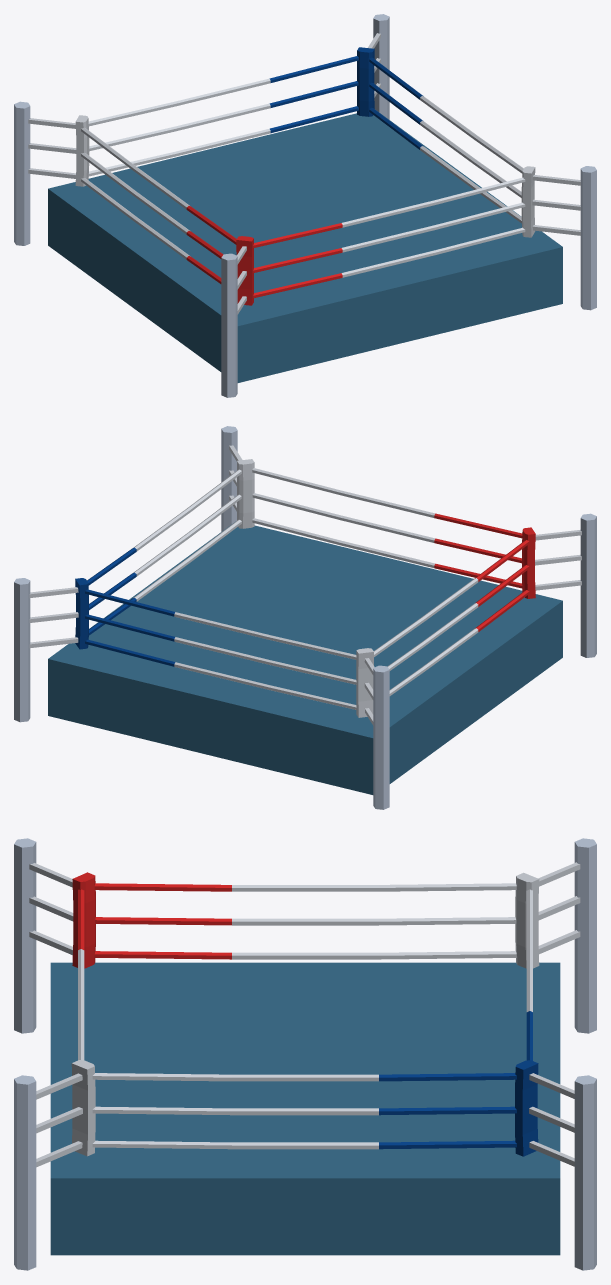
File: Ring.fbx
3 renders of one model, top to bottom at view 1: azimuth 30°, elevation 25°; view 2: azimuth 150°, elevation 25°; view 3: azimuth 270°, elevation 25°, orthographic. The views are drawn at different scales.
Parts seen in each view (by area): view 1: ring; view 2: ring; view 3: ring.
Boxes of the visible parts, x1=… form: ring: x1=14, y1=14, x2=596, y2=397; ring: x1=14, y1=426, x2=596, y2=809; ring: x1=14, y1=838, x2=596, y2=1270.
Size of the model in its own units: 686 by 241 by 686.
